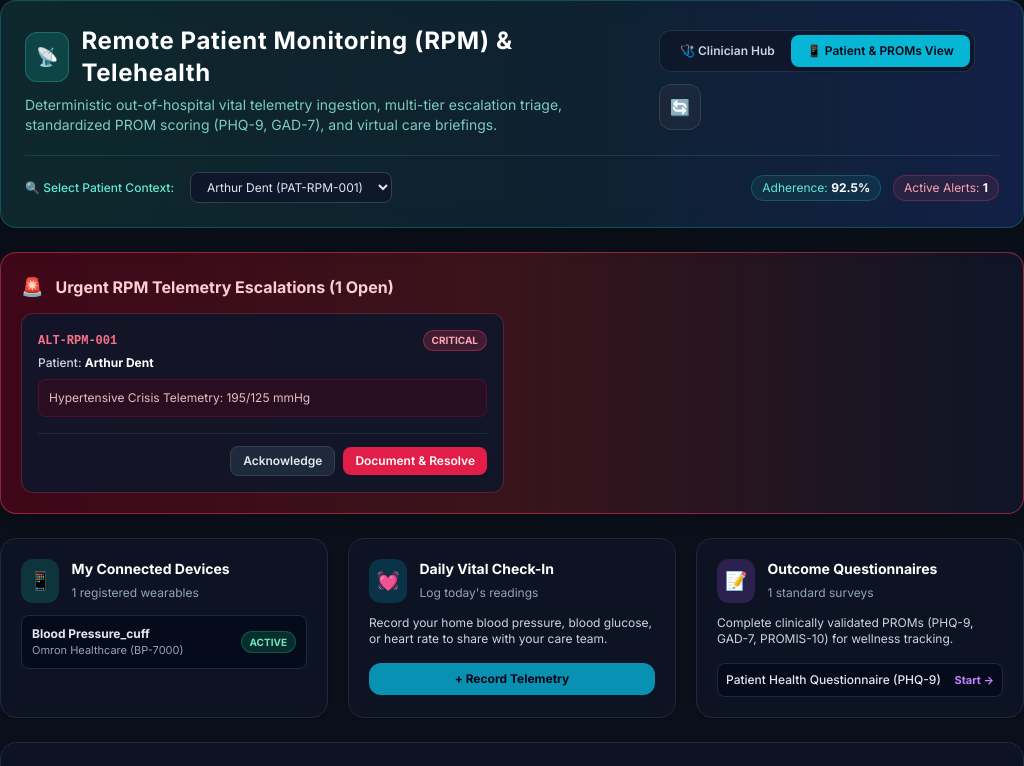
Test case: RPMWorkspace Component (Phase 9.0.15) › allows opening standardized PROM questionnaire survey modal
Click the text "Start →" at (974, 680), box [954,672,994,688]
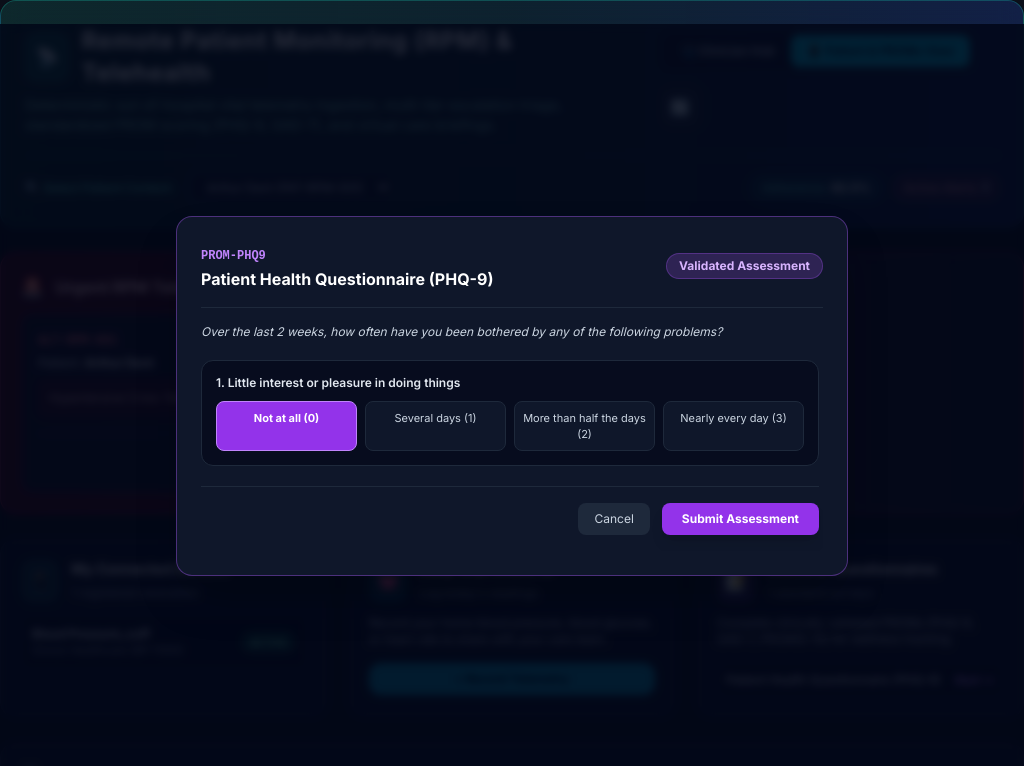
Expected: the text "Over the last 2 weeks" is shown, [201,324,722,339]
